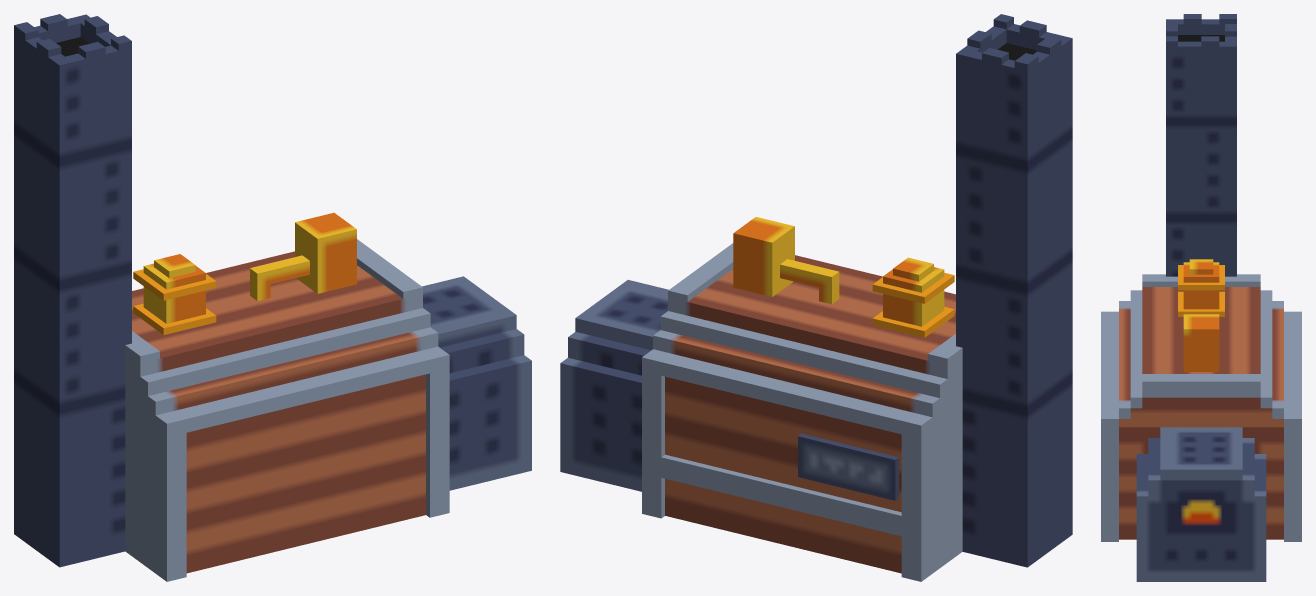
Rendered from Chimenea.fbx.
3 views of the same model, side by side, from view 1: azimuth 30°, elevation 25°; view 2: azimuth 150°, elevation 25°; view 3: azimuth 270°, elevation 25° (orthographic). The views are drawn at different scales.
Visible parts, largest first — view 1: Chimenea; view 2: Chimenea; view 3: Chimenea.
Part boxes in pixels (x1=…): Chimenea: x1=14, y1=14, x2=531, y2=581; Chimenea: x1=560, y1=14, x2=1072, y2=581; Chimenea: x1=1101, y1=14, x2=1301, y2=581.
Bounding box in the file's own units: 69 × 74 × 34.
1 material, 1 textured.
